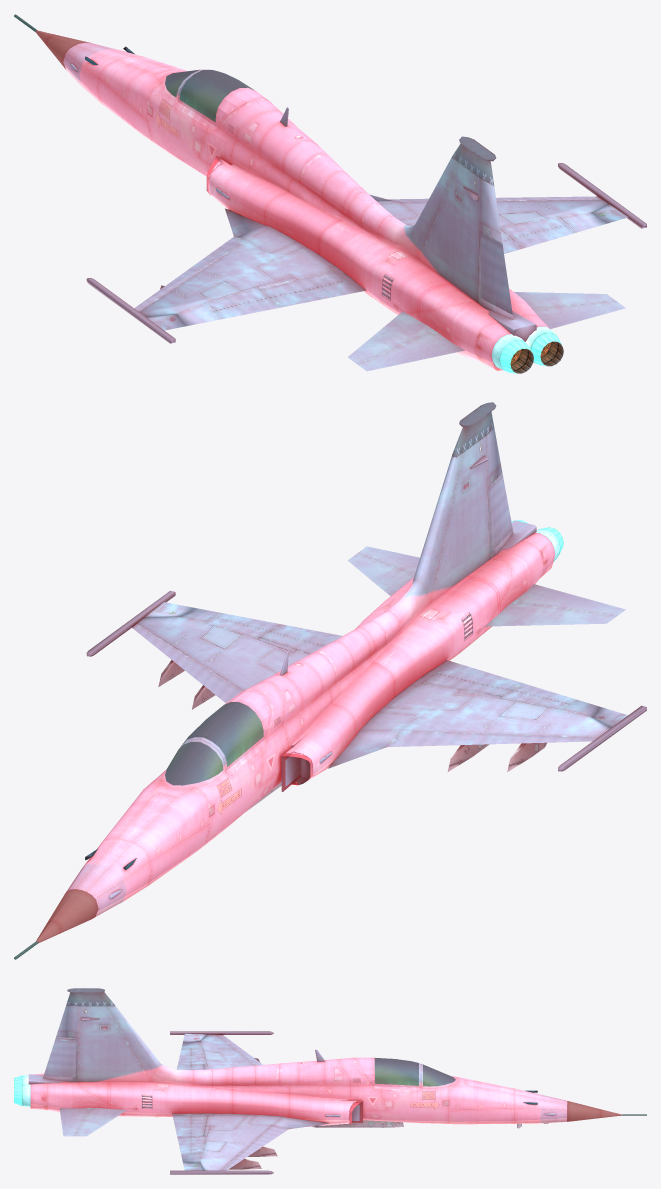
3 renders of one model, top to bottom at view 1: azimuth 30°, elevation 25°; view 2: azimuth 150°, elevation 25°; view 3: azimuth 270°, elevation 25°, orthographic. The views are drawn at different scales.
Visible parts, largest first — view 1: F-5A_LOD0, F-5A_ElevatorL01, F-5A_ElevatorR01, F-5A_Glass_Canopy01, F-5A_FlapL01, F-5A_RudderL01, F-5A_AileronR01, F-5A_AileronL01, F-5A_Canopy01, F-5A_VoletL01, F-5A_EngineL01, F-5A_EngineR01 (+1 smaller); view 2: F-5A_LOD0, F-5A_Glass_Canopy01, F-5A_ElevatorL01, F-5A_VoletL01, F-5A_ElevatorR01, F-5A_FlapL01, F-5A_VoletR01, F-5A_Canopy01, F-5A_FlapR01, F-5A_RudderL01, F-5A_AileronR01, F-5A_AileronL01; view 3: F-5A_LOD0, F-5A_Glass_Canopy01, F-5A_ElevatorR01, F-5A_RudderL01, F-5A_Canopy01, F-5A_FlapR01, F-5A_VoletR01, F-5A_AileronL01, F-5A_AileronR01.
Boxes of the visible parts, x1,y1,x2,y2 form: F-5A_LOD0: (14, 14, 646, 370); F-5A_ElevatorL01: (348, 311, 464, 371); F-5A_ElevatorR01: (514, 292, 625, 328); F-5A_Glass_Canopy01: (165, 69, 254, 122); F-5A_FlapL01: (260, 271, 361, 307); F-5A_RudderL01: (480, 232, 512, 314); F-5A_AileronR01: (500, 216, 576, 247); F-5A_AileronL01: (204, 286, 280, 319); F-5A_Canopy01: (175, 69, 267, 130); F-5A_VoletL01: (134, 236, 246, 311); F-5A_EngineL01: (500, 340, 533, 373); F-5A_EngineR01: (531, 333, 563, 366); F-5A_LOD0: (14, 402, 646, 959); F-5A_Glass_Canopy01: (165, 702, 263, 785); F-5A_ElevatorL01: (485, 584, 625, 626); F-5A_VoletL01: (387, 731, 598, 747); F-5A_ElevatorR01: (348, 546, 419, 596); F-5A_FlapL01: (423, 661, 523, 695); F-5A_VoletR01: (132, 623, 242, 702); F-5A_Canopy01: (181, 690, 270, 774); F-5A_FlapR01: (260, 624, 342, 653); F-5A_RudderL01: (490, 473, 512, 549); F-5A_AileronR01: (204, 613, 280, 638); F-5A_AileronL01: (500, 683, 576, 708); F-5A_LOD0: (22, 988, 646, 1174); F-5A_Glass_Canopy01: (374, 1058, 455, 1086); F-5A_ElevatorR01: (59, 1108, 126, 1136); F-5A_RudderL01: (43, 1037, 75, 1077); F-5A_Canopy01: (355, 1057, 420, 1091); F-5A_FlapR01: (172, 1115, 207, 1137); F-5A_VoletR01: (220, 1125, 288, 1170); F-5A_AileronL01: (177, 1047, 206, 1066); F-5A_AileronR01: (177, 1136, 206, 1154).
Bounding box in the file's own units: 7.8 × 3.57 × 14.79.
Materials: 4 (4 with a texture image).
